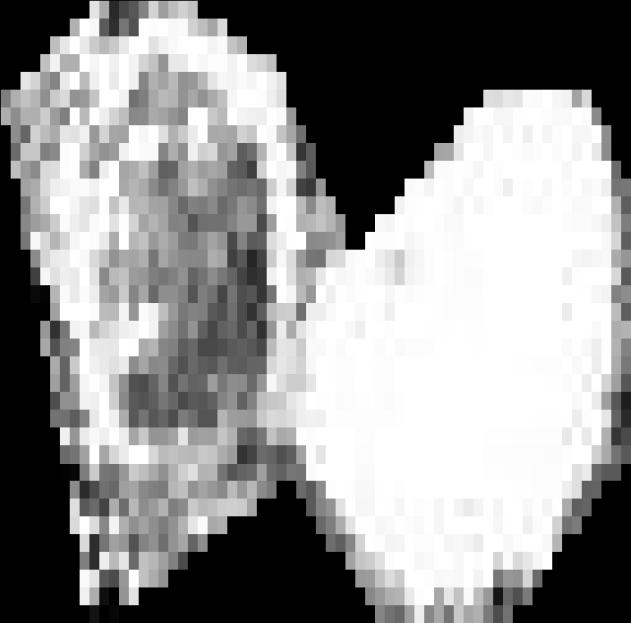tumor_good_chance: (1, 1, 631, 623)
